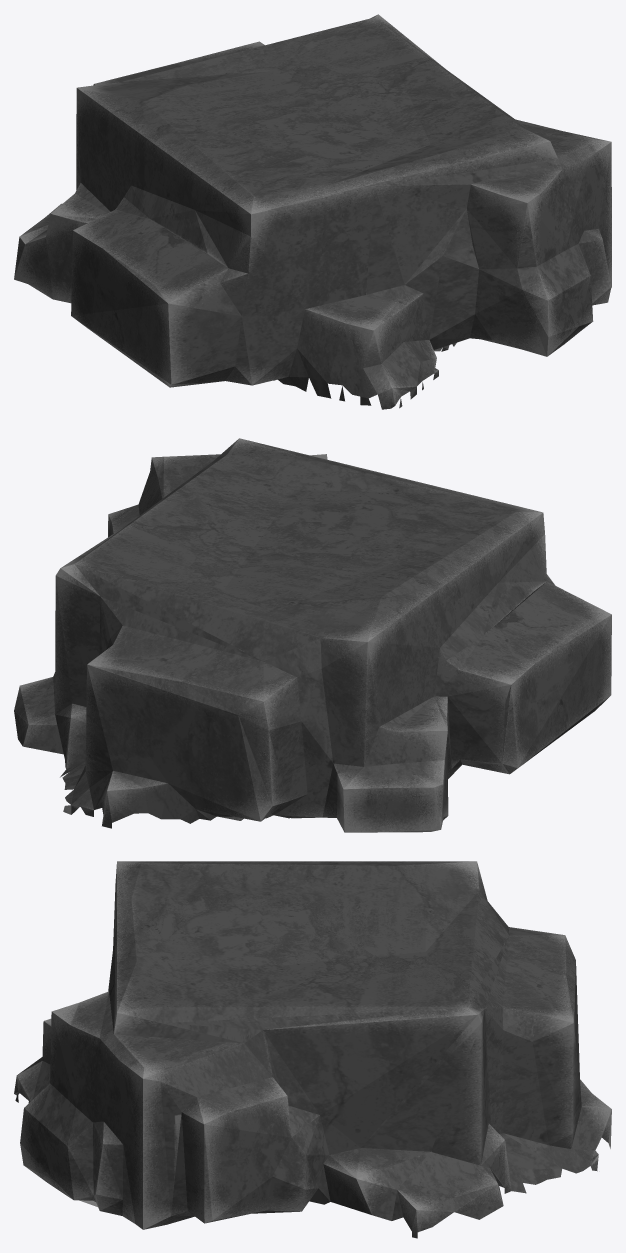
The model's file is ROCK B.fbx.
3 renders of one model, top to bottom at view 1: azimuth 30°, elevation 25°; view 2: azimuth 150°, elevation 25°; view 3: azimuth 270°, elevation 25°, orthographic. The views are drawn at different scales.
Visible parts, largest first — view 1: ROCK B; view 2: ROCK B; view 3: ROCK B.
Boxes of the visible parts, x1,y1,x2,y2 form: ROCK B: (14, 14, 611, 409); ROCK B: (14, 438, 611, 832); ROCK B: (14, 861, 611, 1238).
Size of the model in its own units: 2.98 by 1.19 by 3.21.
